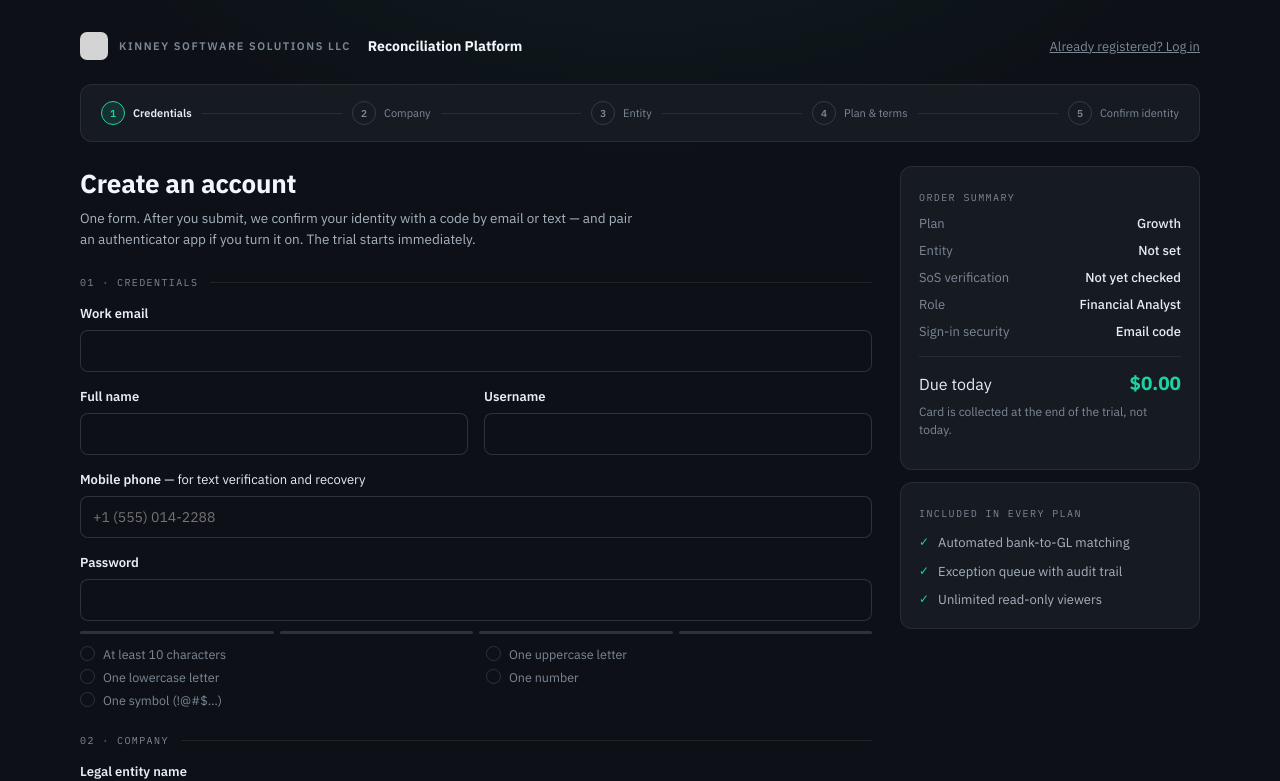
Test: form submission validation › surfaces an invalid-email problem distinct from the required-email problem
The width and height of the screenshot is (1280, 781).
Step 1. Type "not-an-email" into the field labelled "Work email" → [476, 351], box 80,330 -> 872,372
(page scrolled)
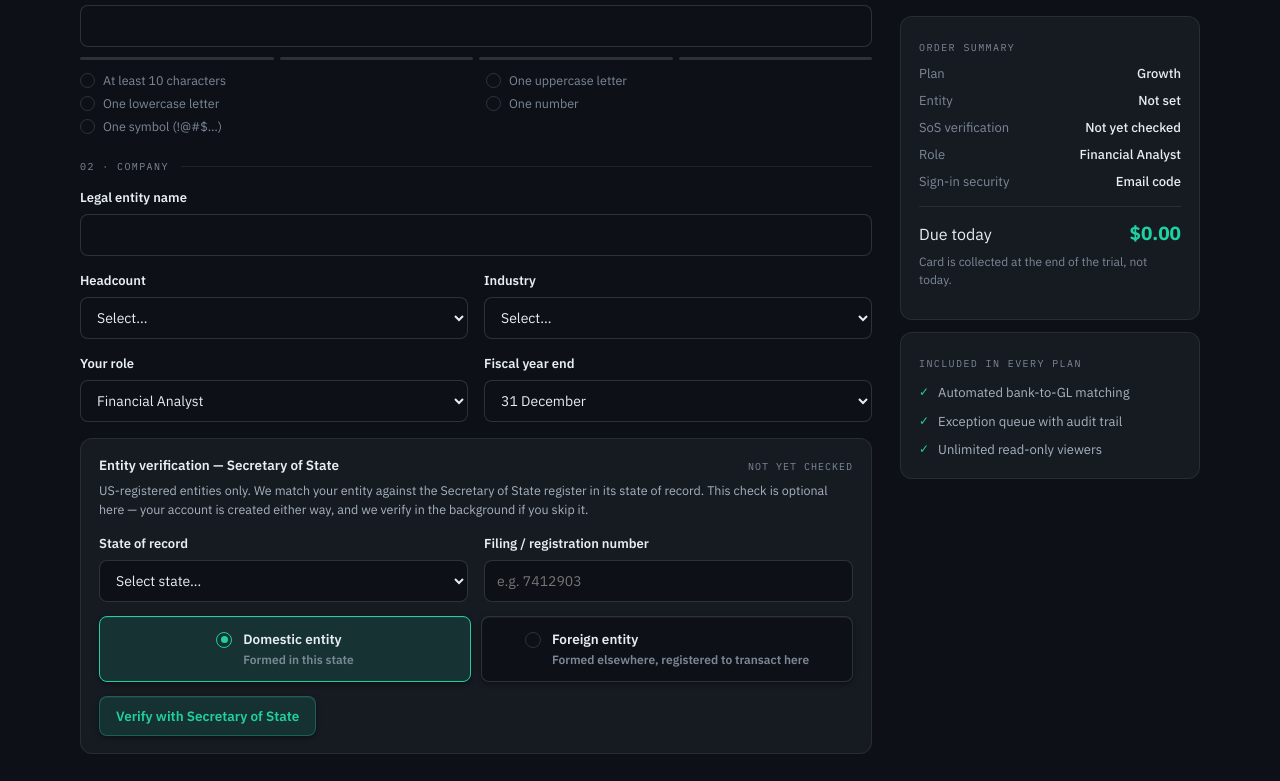
Step 2. Submit the form named "create account and start trial"
(page scrolled)
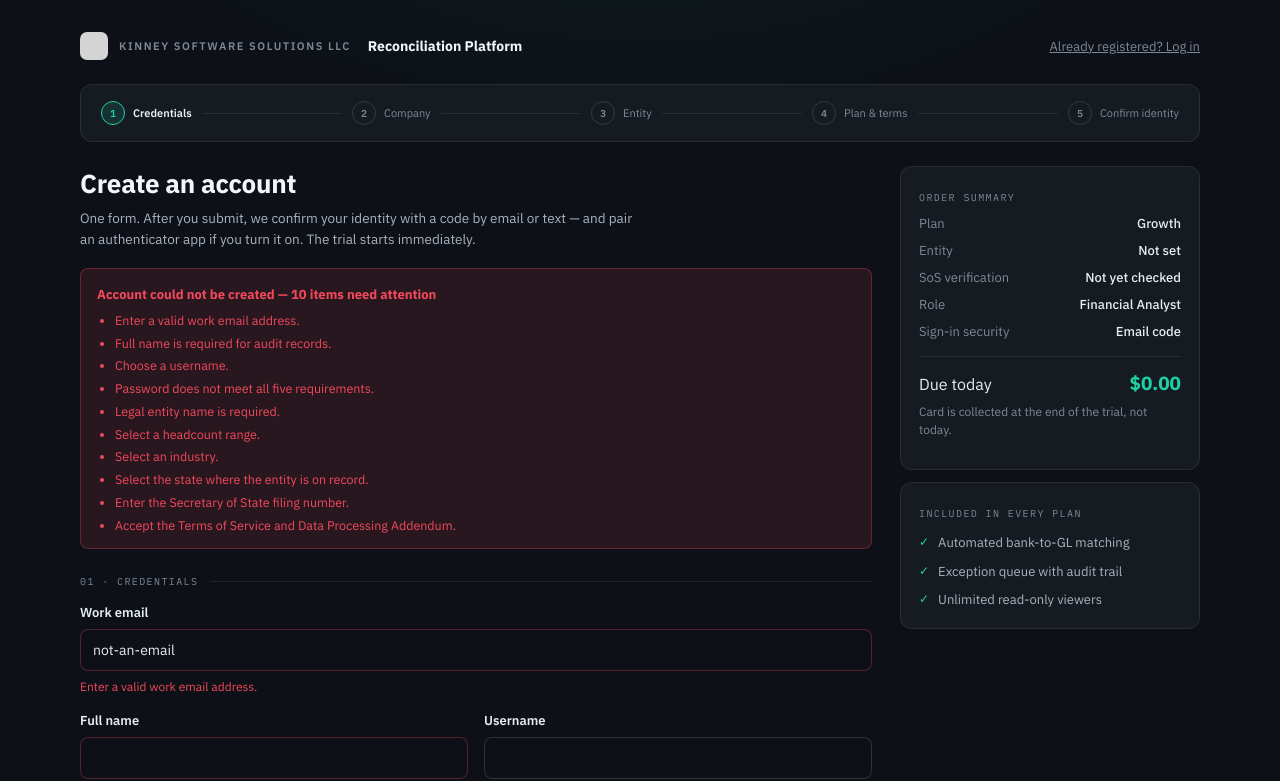
Result: the list item "Enter a valid work email address." is shown at 115,312 -> 300,328
